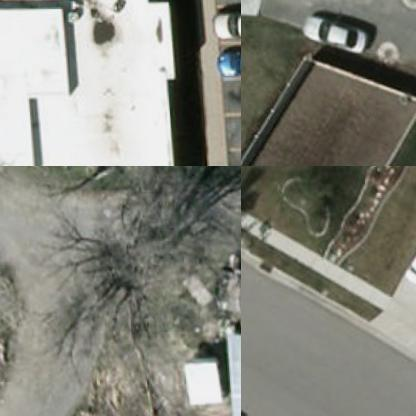car: (295, 11, 370, 51), (394, 222, 415, 286), (210, 46, 240, 76)
pickup: (207, 9, 240, 37)
